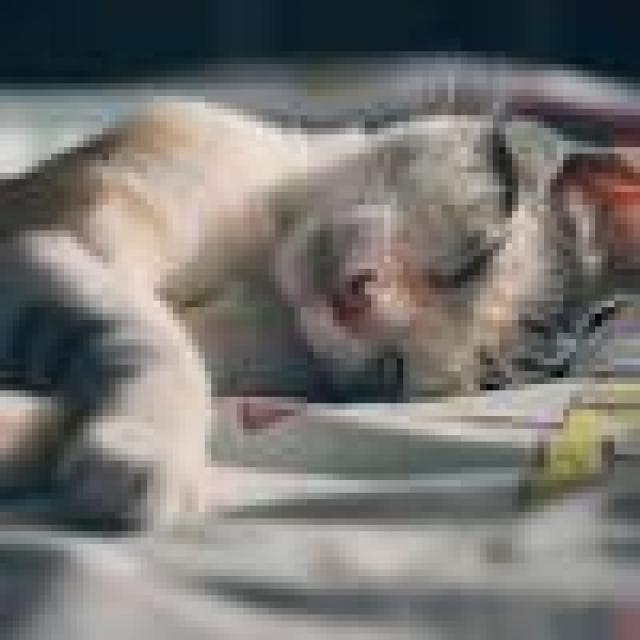Cat: (0, 96, 634, 538)
